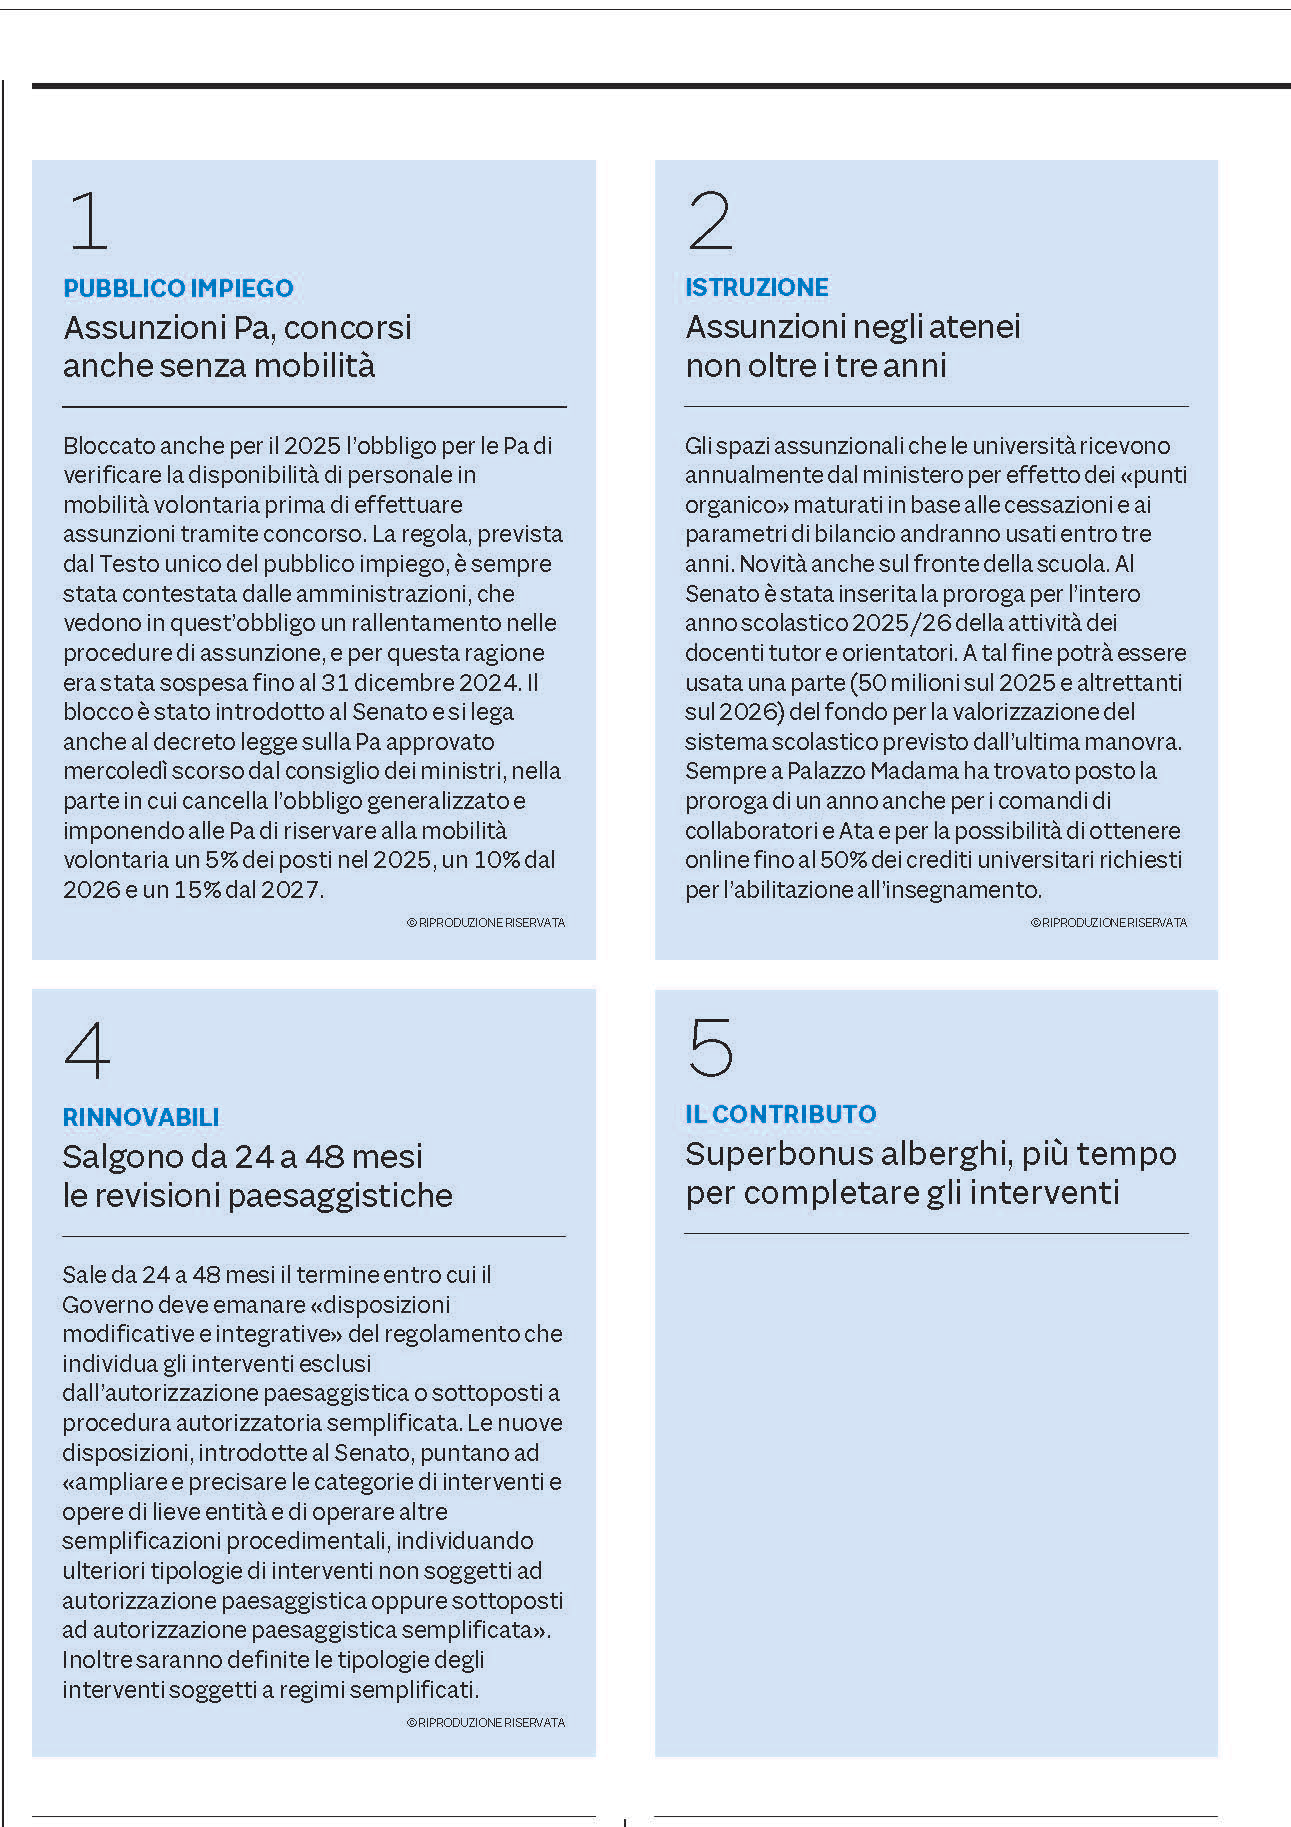scheda-punti-numero-0: (671, 177, 1204, 905), (43, 1006, 578, 1712), (54, 179, 564, 902), (668, 996, 1209, 1411)
